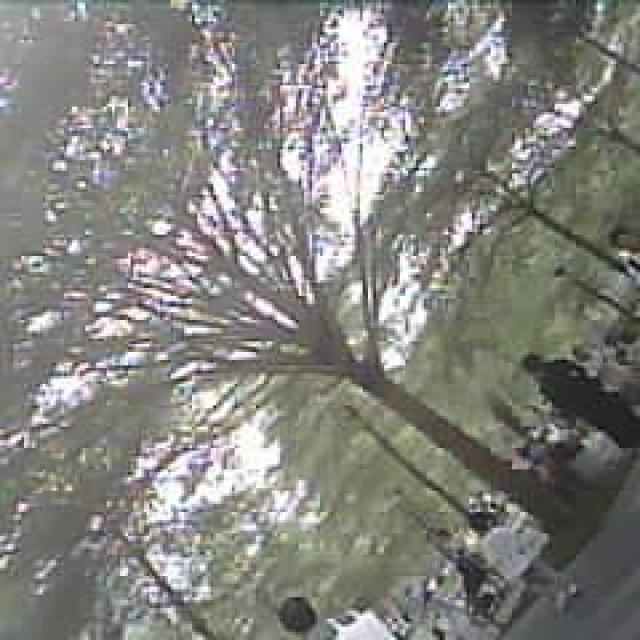gun: (525, 352, 640, 451), (469, 503, 576, 609), (274, 594, 394, 640), (429, 521, 488, 612), (605, 219, 640, 261)
